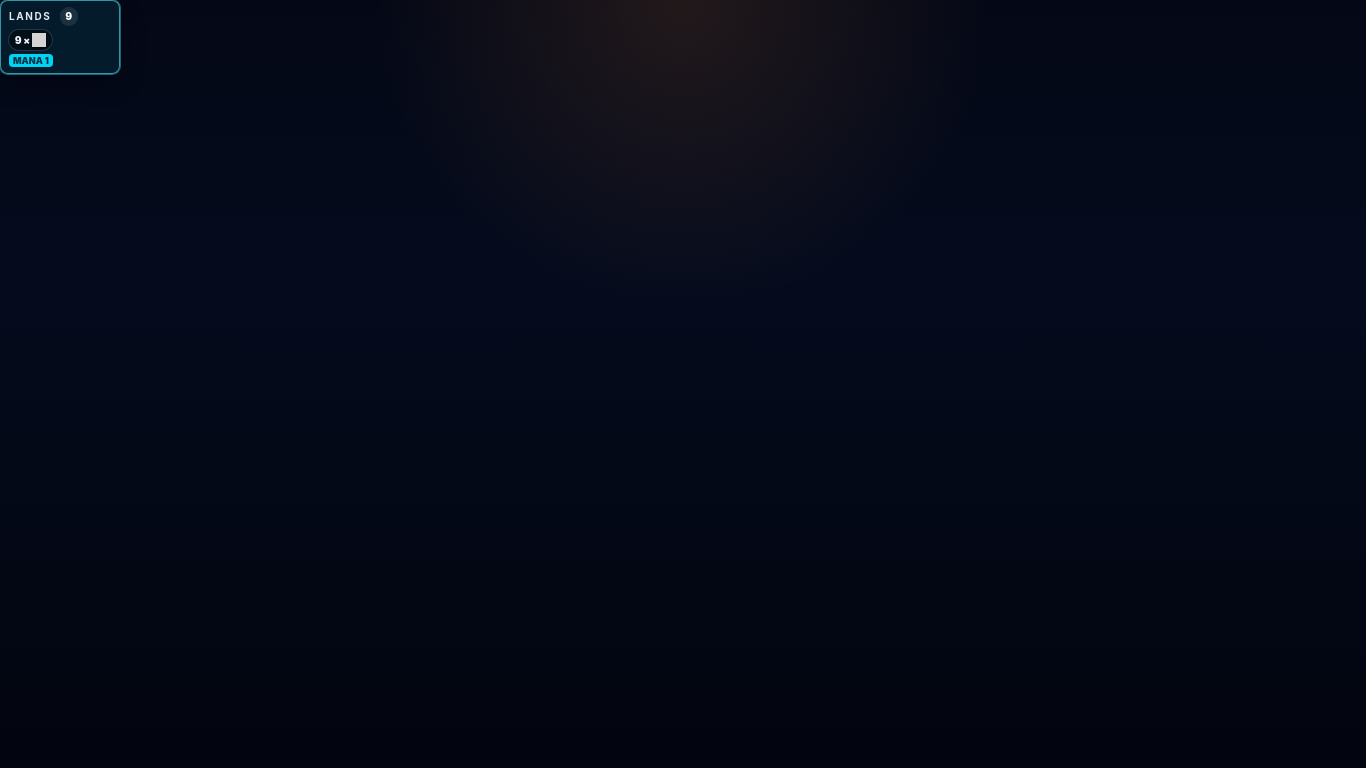
it: BattlefieldZoneOverflow › opens and closes the drawer from the summary tile
Later steps or results of the test are not shown.
Click the button with aria-label "open lands drawer".
click(60, 37)  # box [0, 0, 120, 74]
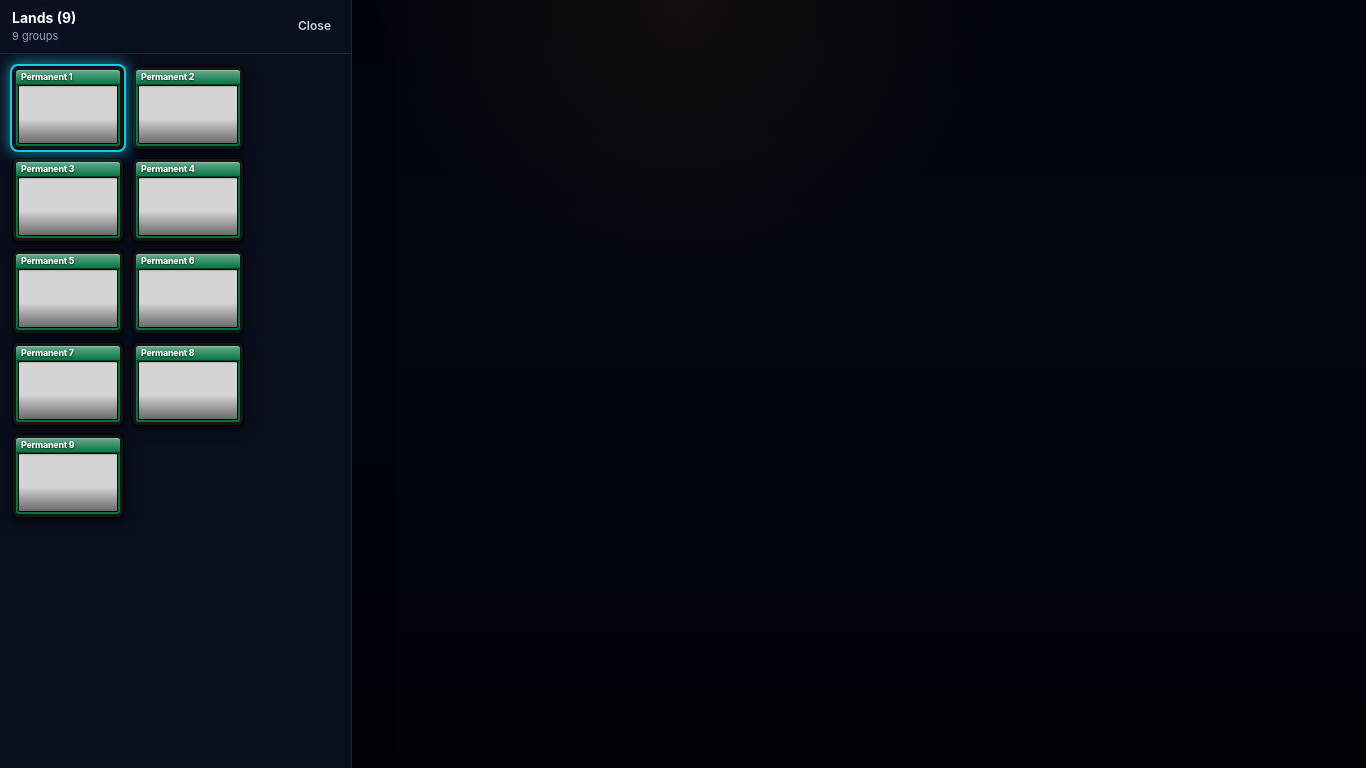
Check: the dialog "Lands" is shown, box [0, 0, 352, 767]
